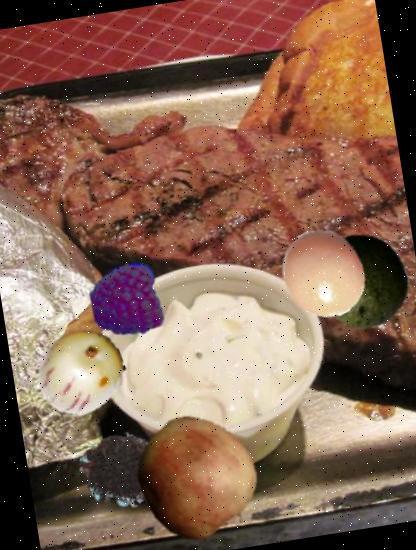Apple: (126, 408, 266, 548)
Avocado: (309, 227, 416, 337)
Grapefruit: (272, 222, 375, 326)
Pepino: (31, 322, 131, 422)
Rambutan: (73, 423, 170, 520)
Raspberry: (83, 258, 168, 344)
